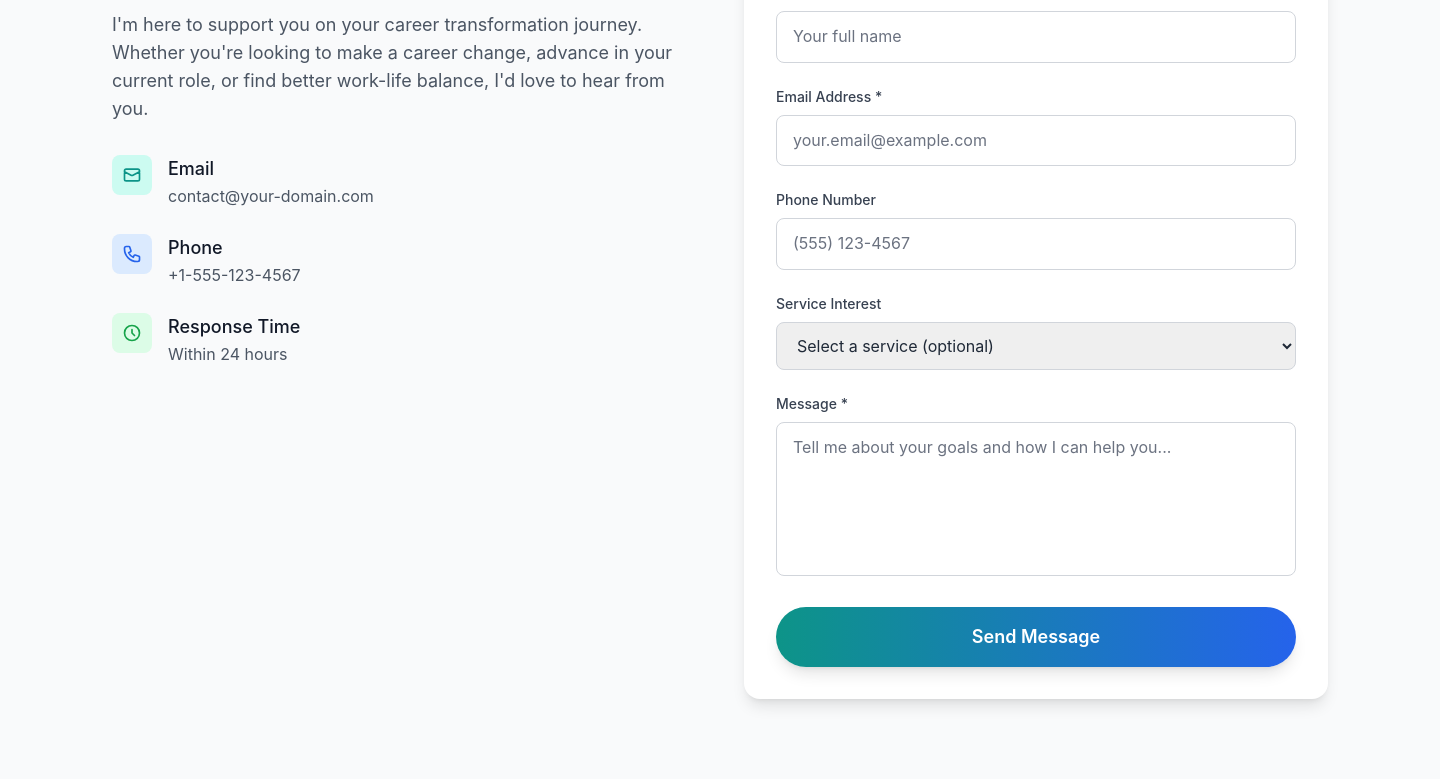
Test: Contact Component › displays validation errors for required fields
The image size is (1440, 779).
(page scrolled)
// Try to submit empty form
Click the button "Send Message". click: click(1036, 637)
box: [776,607,1296,667]
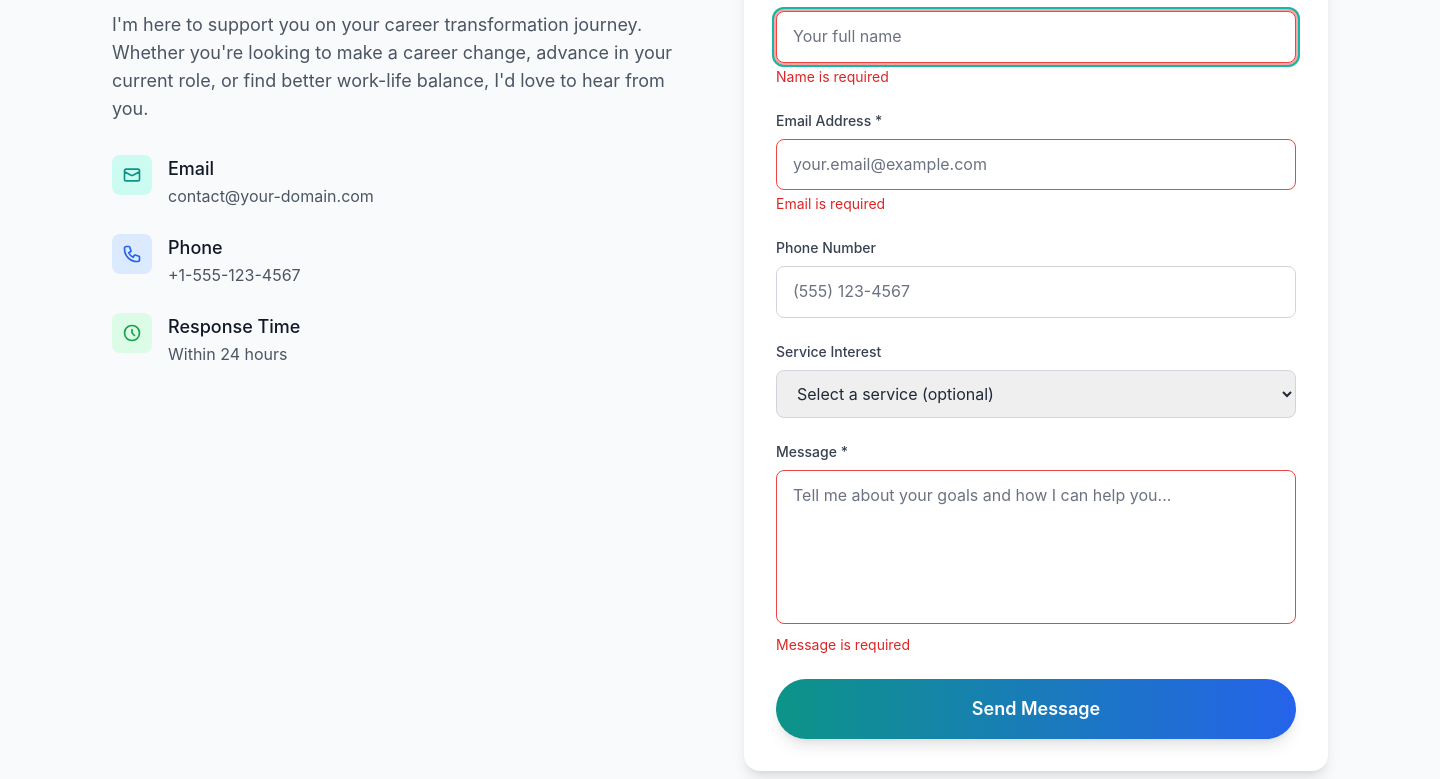
Expected: the text "Name is required" is shown, [776,68,889,85]
Expected: the text "Email is required" is shown, [776,195,885,212]
Expected: the text "Message is required" is shown, [776,636,910,653]
